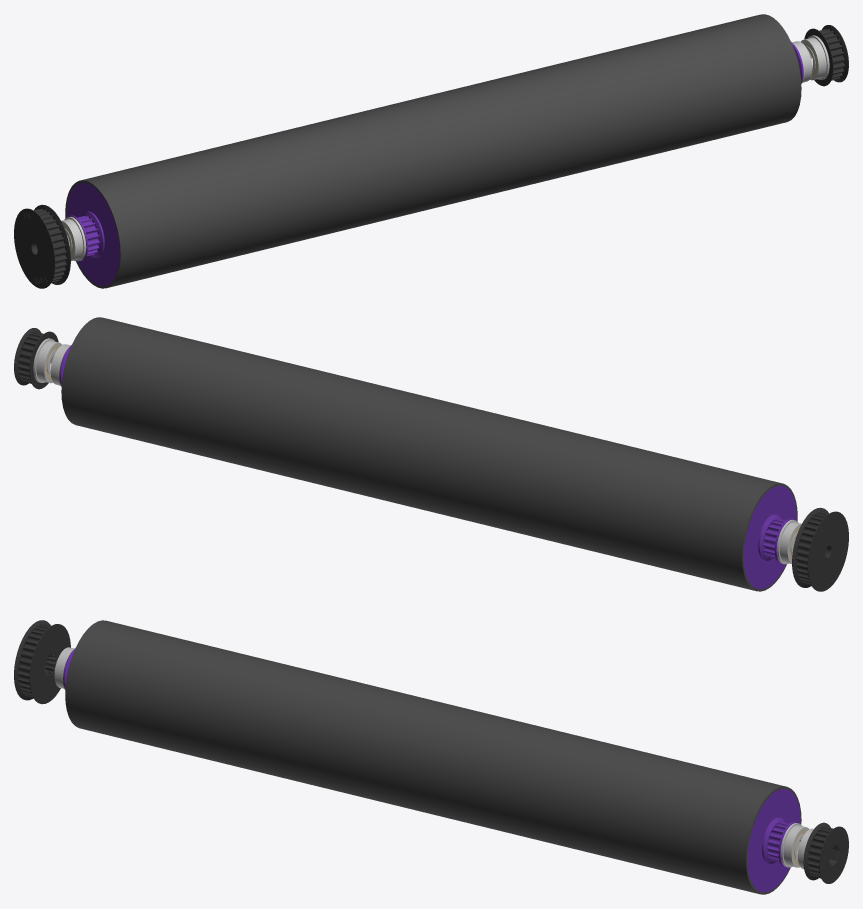
3 renders of one model, top to bottom at view 1: azimuth 30°, elevation 25°; view 2: azimuth 150°, elevation 25°; view 3: azimuth 330°, elevation 25°, orthographic.
Parts seen in each view (by area): view 1: WCP-1280, 33t Custom HTD 5mm Pulley (0.375" Wide, SplineXS Insert), 18t Custom HTD 5mm Pulley (0.375" Wide, 1/2" Hex Bore w/ TTB, 1/2" Hex Bore Bearing (1.125" OD, 0.313" WD, Shielded, Flang (×2), 23t Custom HTD 5mm Pulley (0.375" Wide, 1/2" Hex Bore w/ WCP; view 2: WCP-1280, 33t Custom HTD 5mm Pulley (0.375" Wide, SplineXS Insert), 18t Custom HTD 5mm Pulley (0.375" Wide, 1/2" Hex Bore w/ TTB, 1/2" Hex Bore Bearing (1.125" OD, 0.313" WD, Shielded, Flang (×2), 23t Custom HTD 5mm Pulley (0.375" Wide, 1/2" Hex Bore w/ WCP; view 3: WCP-1280, 18t Custom HTD 5mm Pulley (0.375" Wide, 1/2" Hex Bore w/ TTB, 33t Custom HTD 5mm Pulley (0.375" Wide, SplineXS Insert), 23t Custom HTD 5mm Pulley (0.375" Wide, 1/2" Hex Bore w/ WCP, 1/2" Hex Bore Bearing (1.125" OD, 0.313" WD, Shielded, Flang.
Part boxes in pixels (x1,y1,x2,y2): WCP-1280: (65,14,801,288); 33t Custom HTD 5mm Pulley (0.375" Wide, SplineXS Insert): (14,204,70,288); 18t Custom HTD 5mm Pulley (0.375" Wide, 1/2" Hex Bore w/ TTB: (66,182,119,286); 1/2" Hex Bore Bearing (1.125" OD, 0.313" WD, Shielded, Flang (×2): (61,35,829,261); 23t Custom HTD 5mm Pulley (0.375" Wide, 1/2" Hex Bore w/ WCP: (804,25,848,86); WCP-1280: (61,317,797,591); 33t Custom HTD 5mm Pulley (0.375" Wide, SplineXS Insert): (792,507,848,591); 18t Custom HTD 5mm Pulley (0.375" Wide, 1/2" Hex Bore w/ TTB: (743,485,796,589); 1/2" Hex Bore Bearing (1.125" OD, 0.313" WD, Shielded, Flang (×2): (33,338,801,564); 23t Custom HTD 5mm Pulley (0.375" Wide, 1/2" Hex Bore w/ WCP: (14,328,58,389); WCP-1280: (65,620,801,894); 18t Custom HTD 5mm Pulley (0.375" Wide, 1/2" Hex Bore w/ TTB: (747,788,800,892); 33t Custom HTD 5mm Pulley (0.375" Wide, SplineXS Insert): (14,620,70,704); 23t Custom HTD 5mm Pulley (0.375" Wide, 1/2" Hex Bore w/ WCP: (803,822,848,883); 1/2" Hex Bore Bearing (1.125" OD, 0.313" WD, Shielded, Flang: (780,823,809,867).
Bounding box in the file's own units: 0.634 × 0.0762 × 0.0762.
